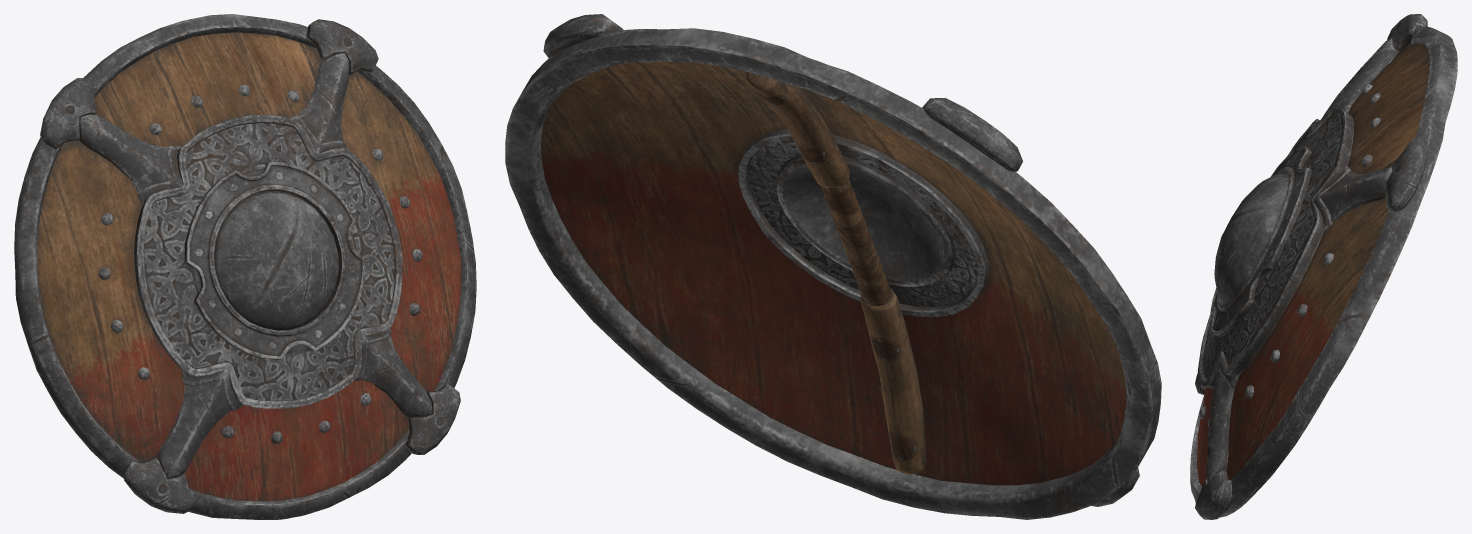
Rendered from medieval.glb.
3 views of the same model, side by side, from view 1: azimuth 30°, elevation 25°; view 2: azimuth 150°, elevation 25°; view 3: azimuth 270°, elevation 25° (orthographic). The views are drawn at different scales.
Visible parts, largest first — view 1: SM_Medieval_Shield_M_Medieval_Shield_0; view 2: SM_Medieval_Shield_M_Medieval_Shield_0; view 3: SM_Medieval_Shield_M_Medieval_Shield_0.
Part boxes in pixels (x1,y1,x2,y2): SM_Medieval_Shield_M_Medieval_Shield_0: (14,14,476,519); SM_Medieval_Shield_M_Medieval_Shield_0: (505,14,1161,519); SM_Medieval_Shield_M_Medieval_Shield_0: (1190,14,1457,519).
Size of the model in its own units: 1.17 by 1.05 by 0.5862.
1 material, 1 textured.
